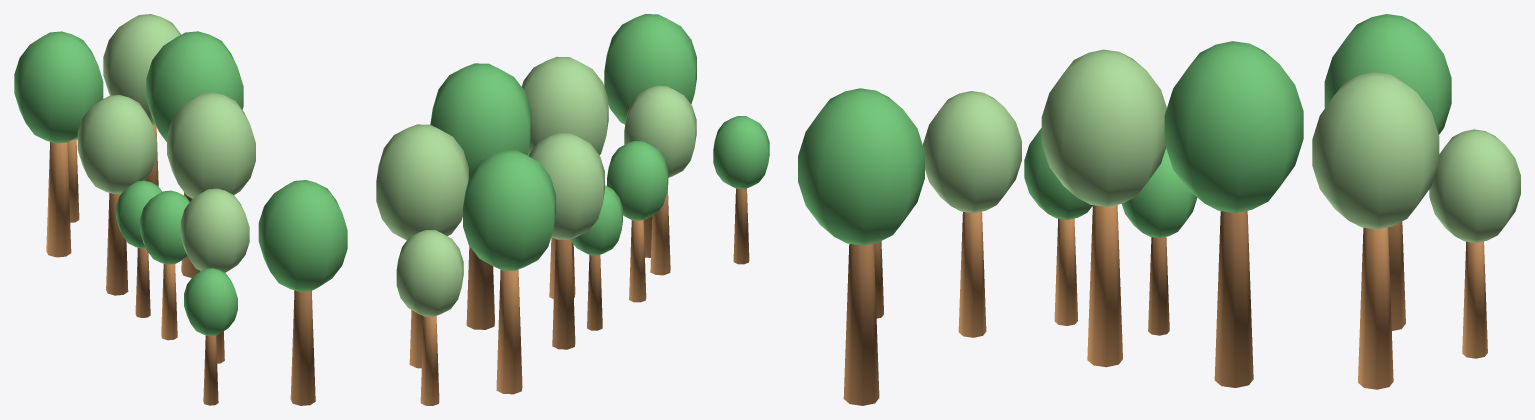
The model's file is trees5.glb.
The picture shows the model from 3 angles, left to right: view 1: azimuth 30°, elevation 25°; view 2: azimuth 150°, elevation 25°; view 3: azimuth 270°, elevation 25°; orthographic projection. The views are drawn at different scales.
Parts seen in each view (by area): view 1: Plane.009; view 2: Plane.009; view 3: Plane.009.
Part boxes in pixels (box(x1,y1,x2,y2)): Plane.009: box(14, 14, 347, 405); Plane.009: box(376, 14, 769, 405); Plane.009: box(798, 14, 1520, 405).
Bounding box in the file's own units: 4.1 × 5.74 × 10.19.
